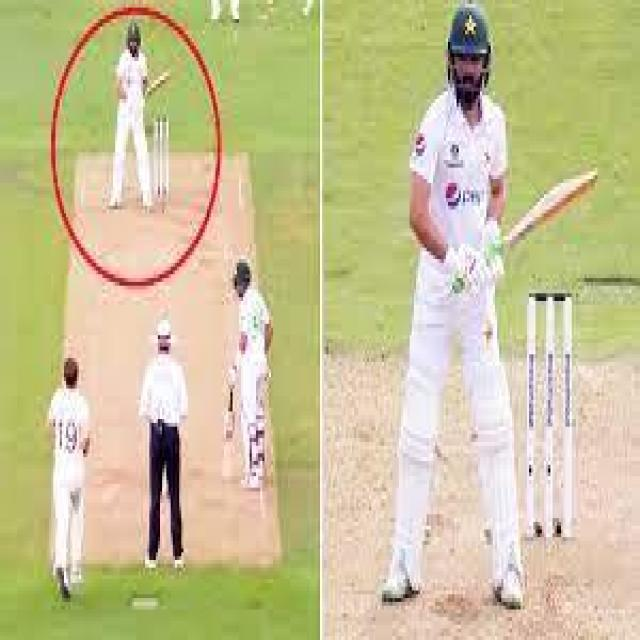bat: (505, 165, 599, 252)
toe: (574, 168, 601, 199)
